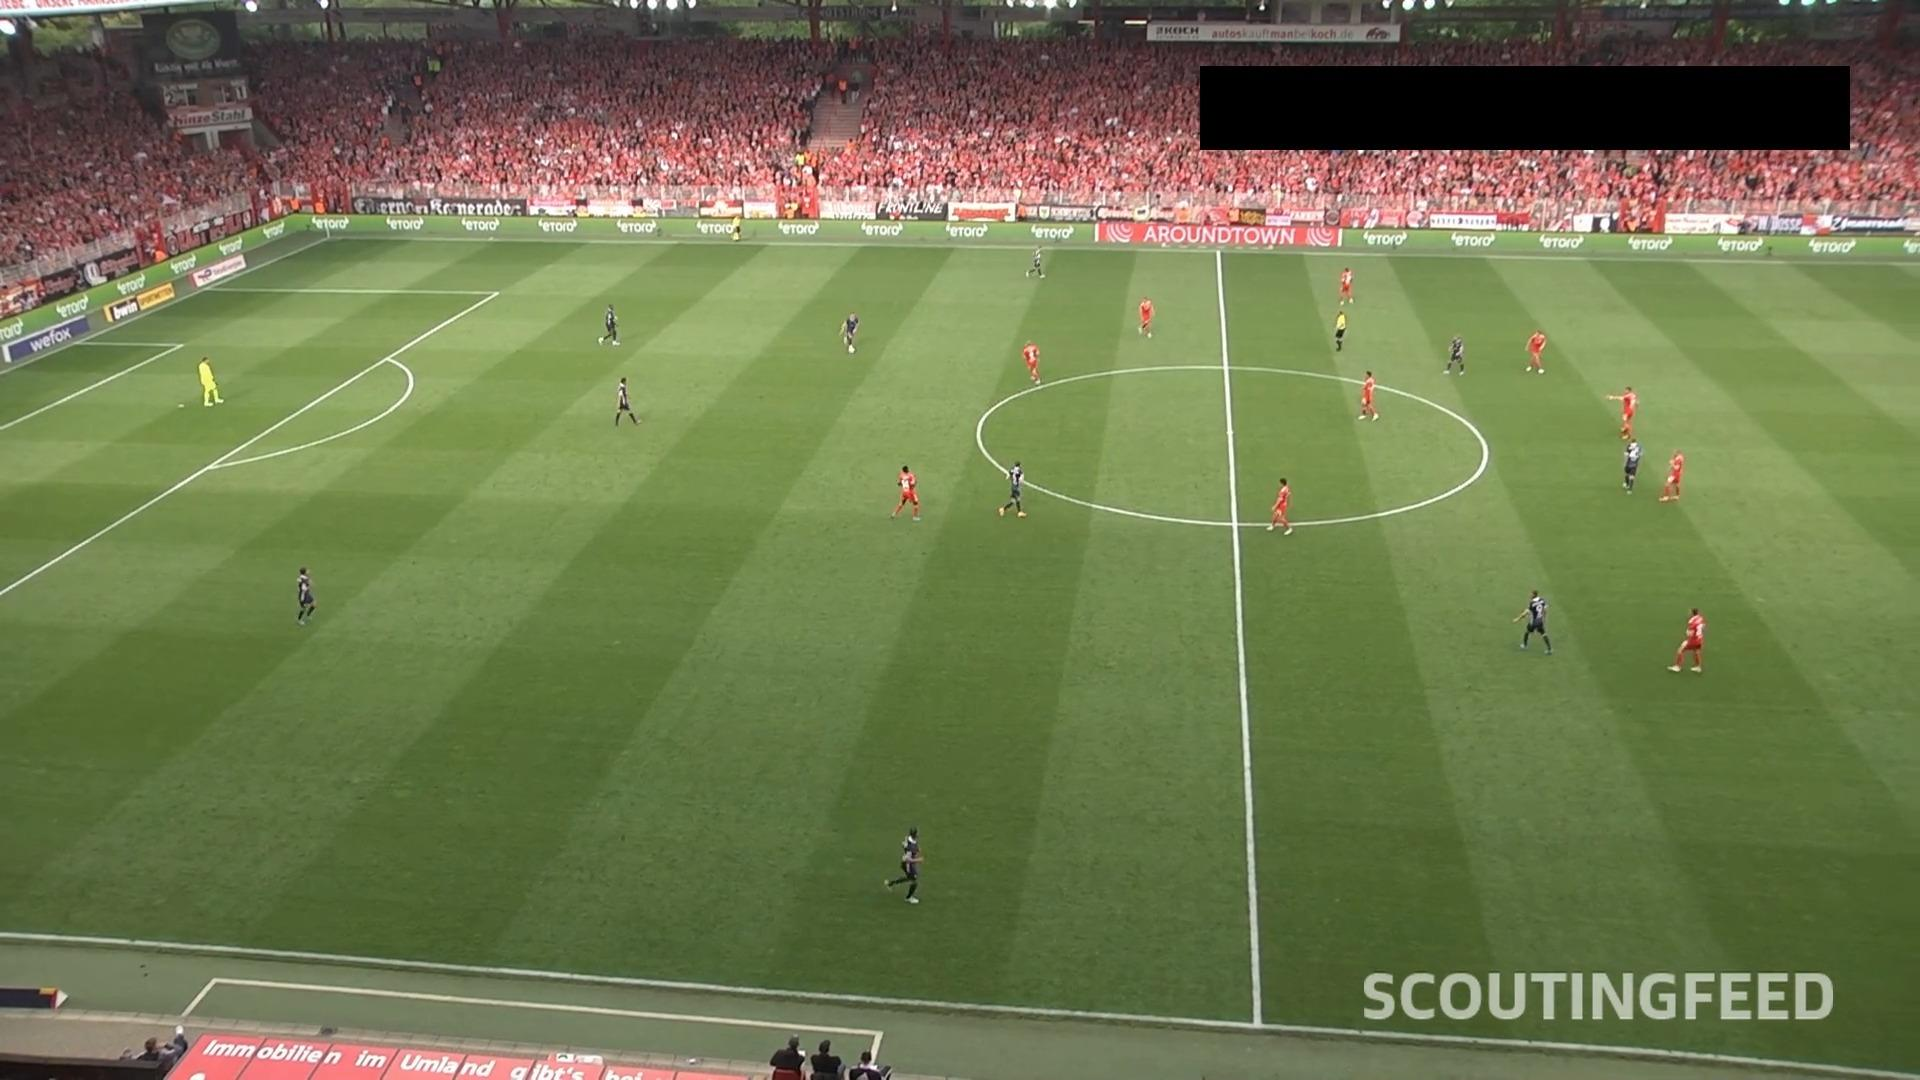ball: (848, 344, 856, 353)
